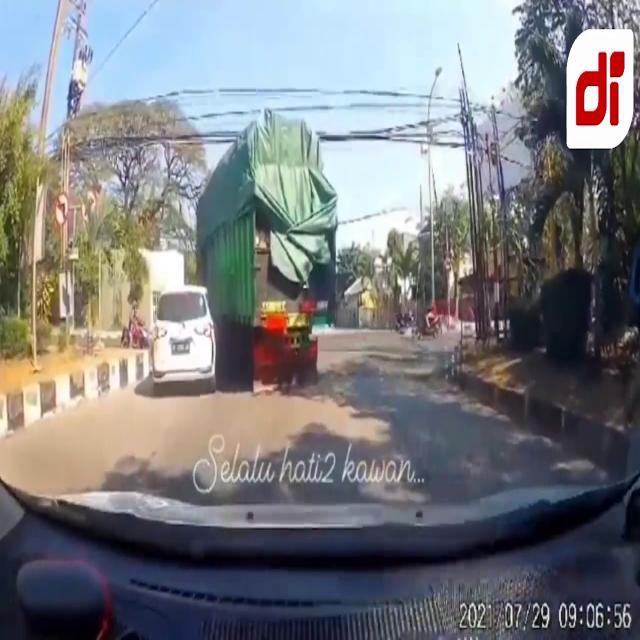multiple_accident: (106, 103, 352, 402)
